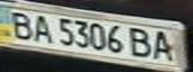0: (87, 20, 109, 52)
3: (69, 19, 90, 51)
5: (51, 16, 75, 47)
6: (106, 22, 130, 55)
A: (148, 27, 184, 62), (27, 11, 57, 44)
B: (124, 25, 157, 60), (3, 9, 36, 40)
